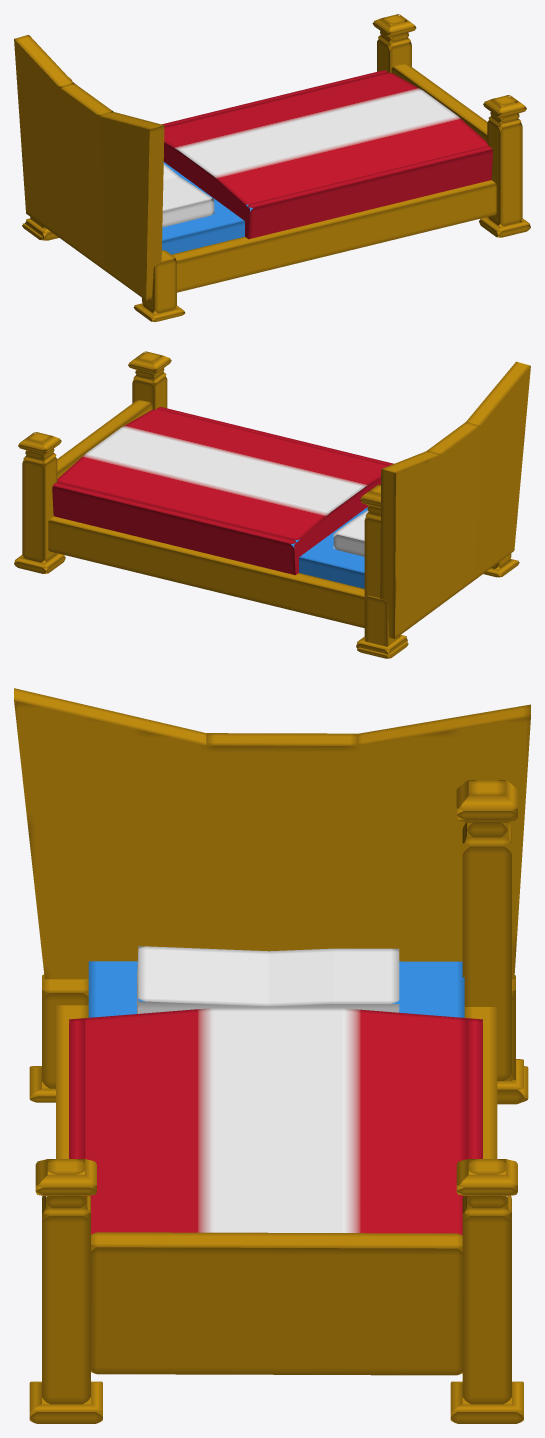
Rendered from bed.obj.
3 views of the same model, one above another, from view 1: azimuth 30°, elevation 25°; view 2: azimuth 150°, elevation 25°; view 3: azimuth 270°, elevation 25° (orthographic). The views are drawn at different scales.
Visible parts, largest first — view 1: mesh; view 2: mesh; view 3: mesh.
Boxes of the visible parts, left/top/right/bottom form: mesh: left=14, top=14, right=530, bottom=321; mesh: left=14, top=351, right=530, bottom=658; mesh: left=14, top=688, right=530, bottom=1423.
Bounding box in the file's own units: 3.24 × 1.6 × 1.98.
1 material, 1 textured.
